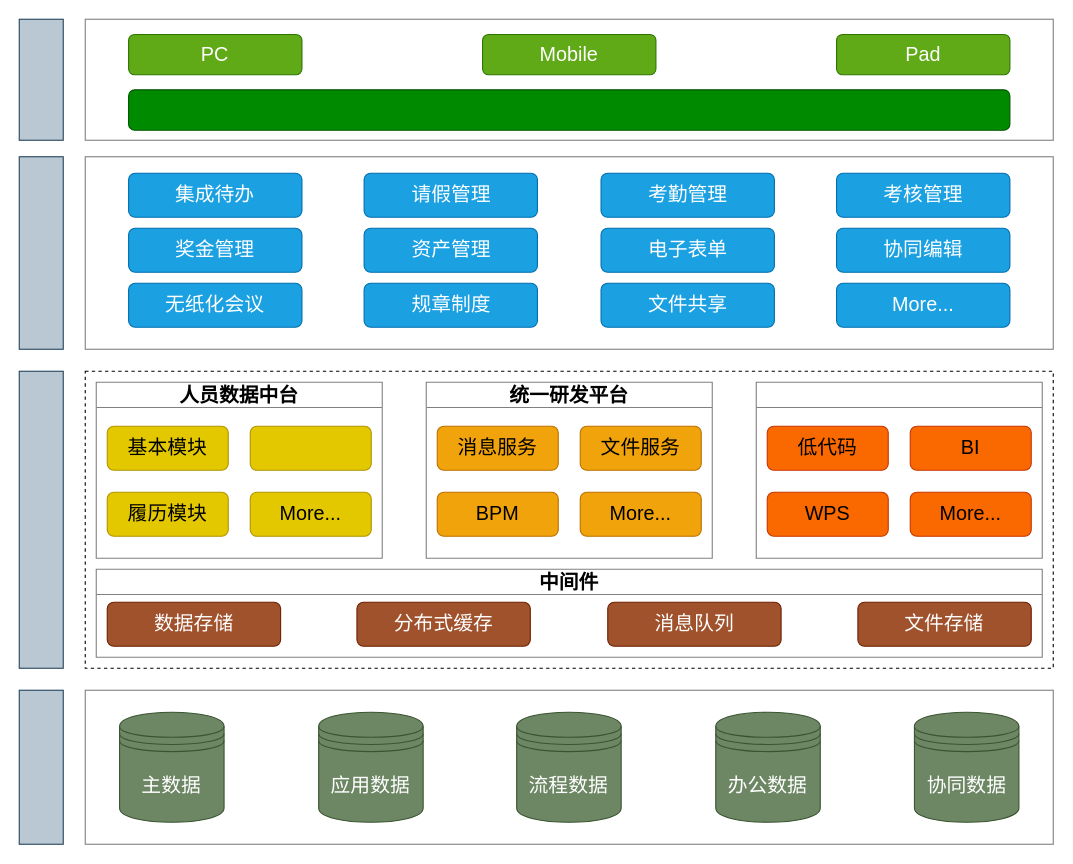
This 1073x864 diagram has some shape labels left out. Here are the shapes that lost their labels. From the top down, the centre of each, then its label:
At (x=40, y=79): "用户层".
At (x=568, y=109): "集成视图(自研应用 / 低代码应用 / BI应用等)".
At (x=40, y=252): "应用层".
At (x=310, y=447): "工作模块".
At (x=898, y=469): "能力平台".
At (x=40, y=519): "依赖层".
At (x=40, y=766): "数据层".
